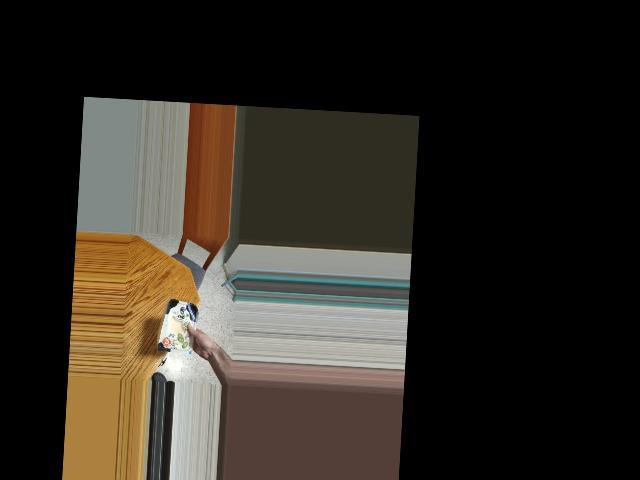cheese: (160, 296, 199, 347)
